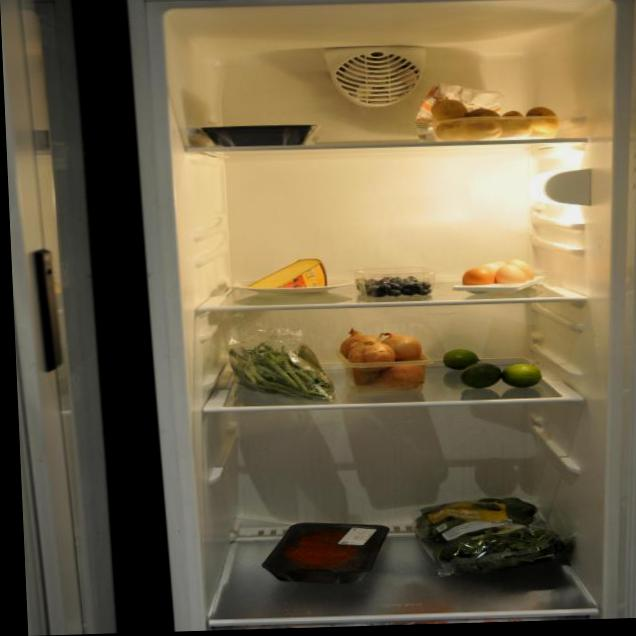cheese: (252, 245, 333, 303)
eggs: (456, 259, 545, 301)
green beans: (231, 333, 341, 413)
lime: (439, 343, 541, 400)
meat: (263, 508, 379, 587), (183, 106, 328, 158)
onion: (341, 322, 437, 387)
potatoes: (410, 84, 568, 149)
